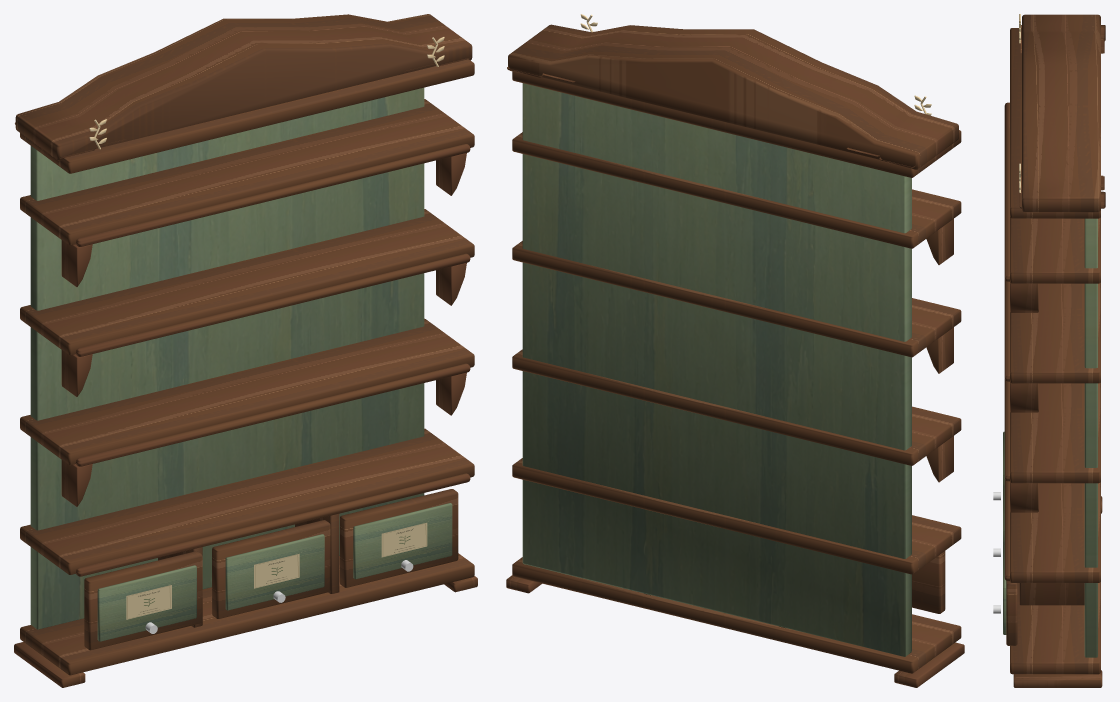
The model's file is CM_HR02_ShelvingCraft.fbx.
3 renders of one model, left to right at view 1: azimuth 30°, elevation 25°; view 2: azimuth 150°, elevation 25°; view 3: azimuth 270°, elevation 25°, orthographic. The views are drawn at different scales.
Visible parts, largest first — view 1: CM_HR02_ShelvingCraft; view 2: CM_HR02_ShelvingCraft; view 3: CM_HR02_ShelvingCraft.
Boxes of the visible parts, x1,y1,x2,y2 form: CM_HR02_ShelvingCraft: (14,14,477,687); CM_HR02_ShelvingCraft: (506,14,964,687); CM_HR02_ShelvingCraft: (993,14,1105,687).
Bounding box in the file's own units: 1.83 × 2.45 × 0.47.
